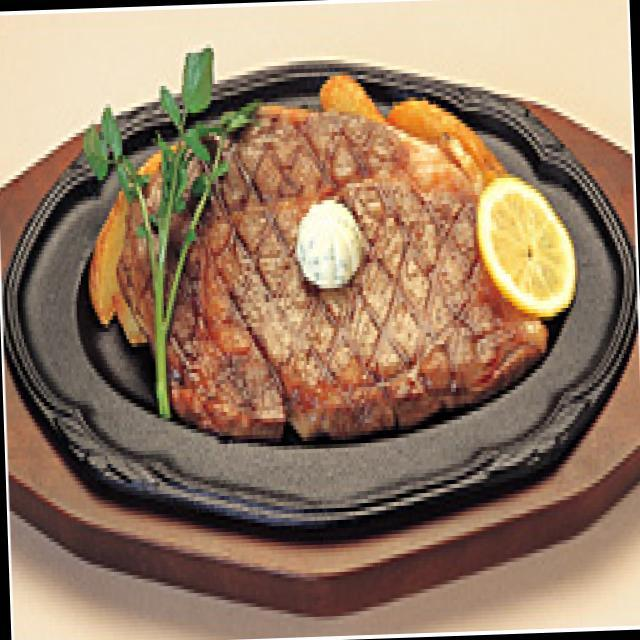Beef Steak: (132, 130, 516, 433)
